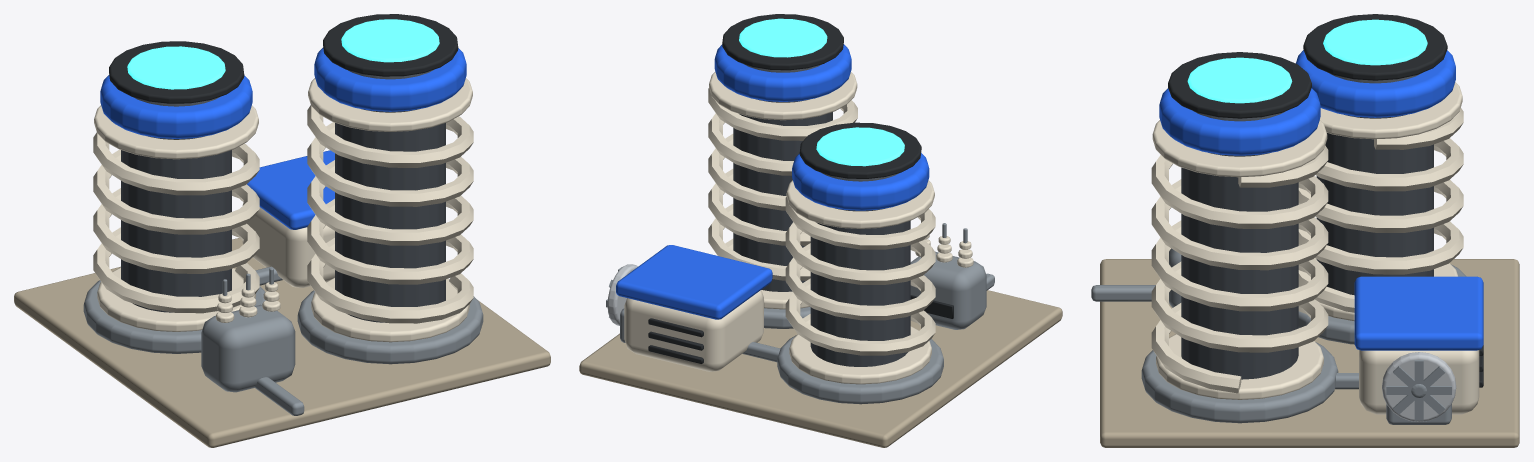
Rendered from power_plant.glb.
3 renders of one model, left to right at view 1: azimuth 30°, elevation 25°; view 2: azimuth 150°, elevation 25°; view 3: azimuth 270°, elevation 25°, orthographic. The views are drawn at different scales.
Parts seen in each view (by area): view 1: stage_0__M_SugarPad, stage_2__M_SmokePlastic, coil_1__M_CreamPlastic, coil_0__M_CreamPlastic, stage_1__M_SpringSteel, stage_3__M_Team, stage_1__M_CreamPlastic, stage_3__M_Dark, stage_3__M_E_Cyan, stage_1__M_Team, stage_2__M_CreamPlastic; view 2: stage_0__M_SugarPad, coil_0__M_CreamPlastic, stage_2__M_SmokePlastic, coil_1__M_CreamPlastic, stage_1__M_CreamPlastic, stage_3__M_Team, stage_1__M_SpringSteel, stage_1__M_Team, stage_3__M_Dark, stage_3__M_E_Cyan, stage_1__M_Dark, flywheel__M_Foil (+1 smaller); view 3: stage_0__M_SugarPad, stage_2__M_SmokePlastic, coil_1__M_CreamPlastic, coil_0__M_CreamPlastic, stage_3__M_Team, stage_1__M_Team, stage_1__M_SpringSteel, stage_3__M_Dark, stage_1__M_CreamPlastic, stage_3__M_E_Cyan, flywheel__M_Foil, flywheel__M_SpringSteel.
Boxes of the visible parts, bbox=[...] form: stage_0__M_SugarPad: bbox=[14, 238, 550, 447]; stage_2__M_SmokePlastic: bbox=[121, 69, 445, 322]; coil_1__M_CreamPlastic: bbox=[307, 78, 473, 323]; coil_0__M_CreamPlastic: bbox=[93, 105, 259, 313]; stage_1__M_SpringSteel: bbox=[83, 266, 483, 415]; stage_3__M_Team: bbox=[100, 47, 466, 138]; stage_1__M_CreamPlastic: bbox=[97, 203, 469, 342]; stage_3__M_Dark: bbox=[109, 14, 458, 103]; stage_3__M_E_Cyan: bbox=[127, 19, 439, 89]; stage_1__M_Team: bbox=[247, 150, 334, 229]; stage_2__M_CreamPlastic: bbox=[217, 282, 279, 313]; stage_0__M_SugarPad: bbox=[579, 290, 1062, 447]; coil_0__M_CreamPlastic: bbox=[785, 180, 935, 355]; stage_2__M_SmokePlastic: bbox=[733, 64, 910, 366]; coil_1__M_CreamPlastic: bbox=[708, 72, 857, 280]; stage_1__M_CreamPlastic: bbox=[624, 252, 973, 384]; stage_3__M_Team: bbox=[714, 44, 929, 210]; stage_1__M_SpringSteel: bbox=[620, 251, 994, 404]; stage_1__M_Team: bbox=[616, 245, 772, 319]; stage_3__M_Dark: bbox=[722, 14, 921, 178]; stage_3__M_E_Cyan: bbox=[739, 18, 904, 166]; stage_1__M_Dark: bbox=[648, 295, 953, 363]; flywheel__M_Foil: bbox=[607, 264, 638, 325]; stage_0__M_SugarPad: bbox=[1100, 259, 1519, 447]; stage_2__M_SmokePlastic: bbox=[1181, 73, 1433, 379]; coil_1__M_CreamPlastic: bbox=[1151, 120, 1328, 393]; coil_0__M_CreamPlastic: bbox=[1298, 82, 1463, 312]; stage_3__M_Team: bbox=[1159, 50, 1455, 155]; stage_1__M_Team: bbox=[1354, 276, 1483, 350]; stage_1__M_SpringSteel: bbox=[1091, 248, 1466, 424]; stage_3__M_Dark: bbox=[1168, 14, 1447, 118]; stage_1__M_CreamPlastic: bbox=[1156, 258, 1479, 414]; stage_3__M_E_Cyan: bbox=[1187, 19, 1427, 103]; flywheel__M_Foil: bbox=[1382, 352, 1456, 421]; flywheel__M_SpringSteel: bbox=[1386, 360, 1451, 420].
Bounding box in the file's own units: 1.93 × 1.62 × 1.96.
